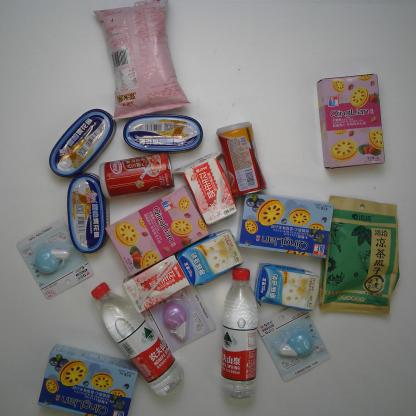Canned Food: (46, 106, 116, 182), (214, 121, 266, 198), (96, 151, 175, 200), (66, 172, 112, 253), (122, 110, 204, 155)
Dessert: (104, 185, 212, 278), (36, 342, 140, 416), (315, 70, 388, 170), (234, 189, 336, 260)
Dried Food: (315, 193, 402, 316)
Drink: (88, 279, 187, 399), (219, 264, 260, 401)
Milk: (171, 148, 237, 228), (173, 226, 245, 288), (120, 256, 193, 316), (251, 260, 321, 312)
Puffed Food: (94, 0, 190, 126)
Stationery: (14, 216, 94, 303), (254, 300, 332, 384), (142, 281, 220, 354)
